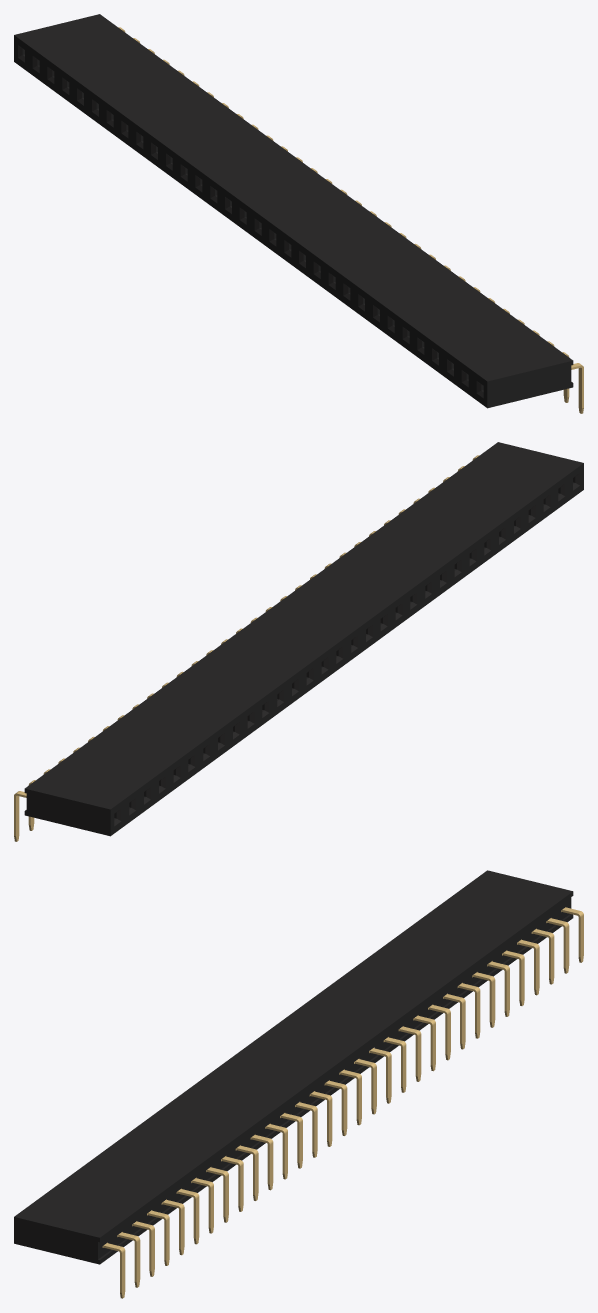
File: kc-pinsocket_1x32_p2.54mm_horizontal.glb
3 views of the same model, one above another, from view 1: azimuth 30°, elevation 25°; view 2: azimuth 150°, elevation 25°; view 3: azimuth 330°, elevation 25° (orthographic).
Visible parts, largest first — view 1: 0_0_0_0, 0.75_0.5_0.25_0.9; view 2: 0_0_0_0, 0.75_0.5_0.25_0.9; view 3: 0_0_0_0, 0.75_0.5_0.25_0.9.
Boxes of the visible parts, x1,y1,x2,y2 form: 0_0_0_0: (14, 14, 573, 408); 0.75_0.5_0.25_0.9: (118, 27, 583, 413); 0_0_0_0: (24, 442, 583, 836); 0.75_0.5_0.25_0.9: (14, 455, 479, 841); 0_0_0_0: (14, 870, 573, 1264); 0.75_0.5_0.25_0.9: (102, 907, 583, 1298).
Size of the model in its own units: 1.01 by 0.5838 by 8.13.
